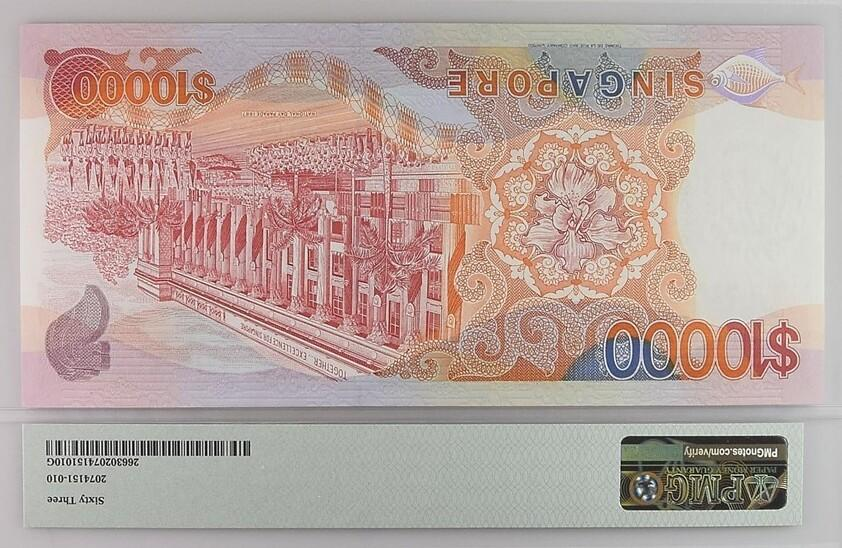10000SingaporeDollar: (21, 25, 822, 407)
